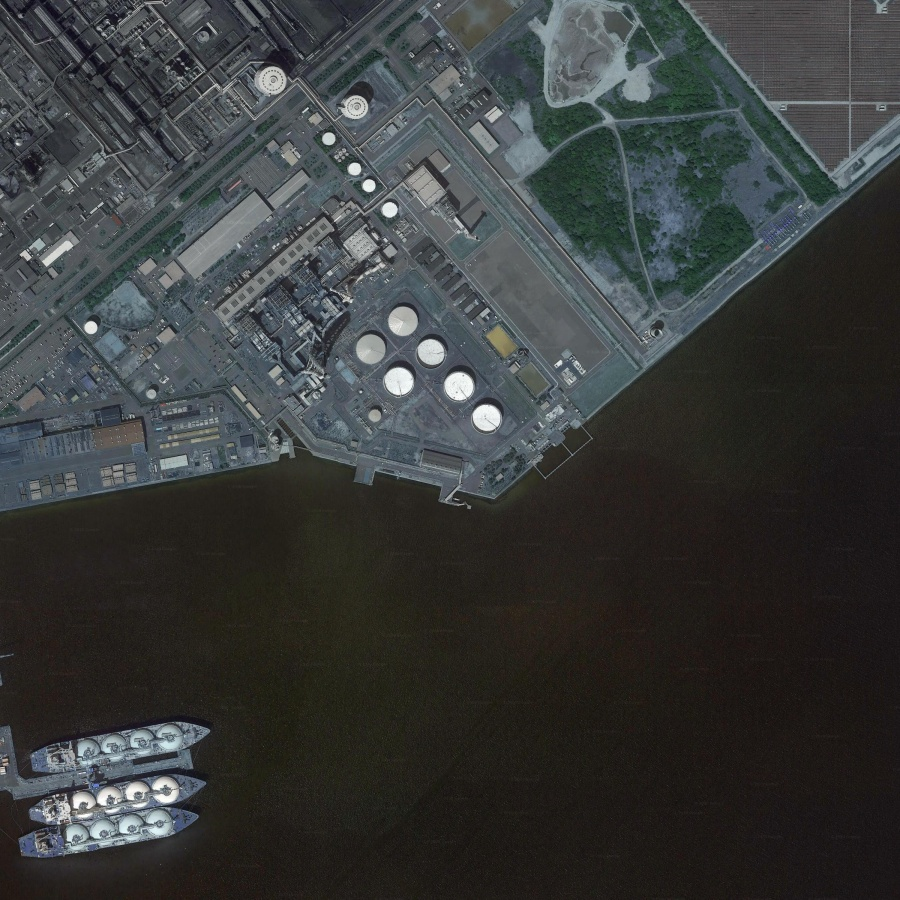PowerPlant: (224, 52, 524, 432)
